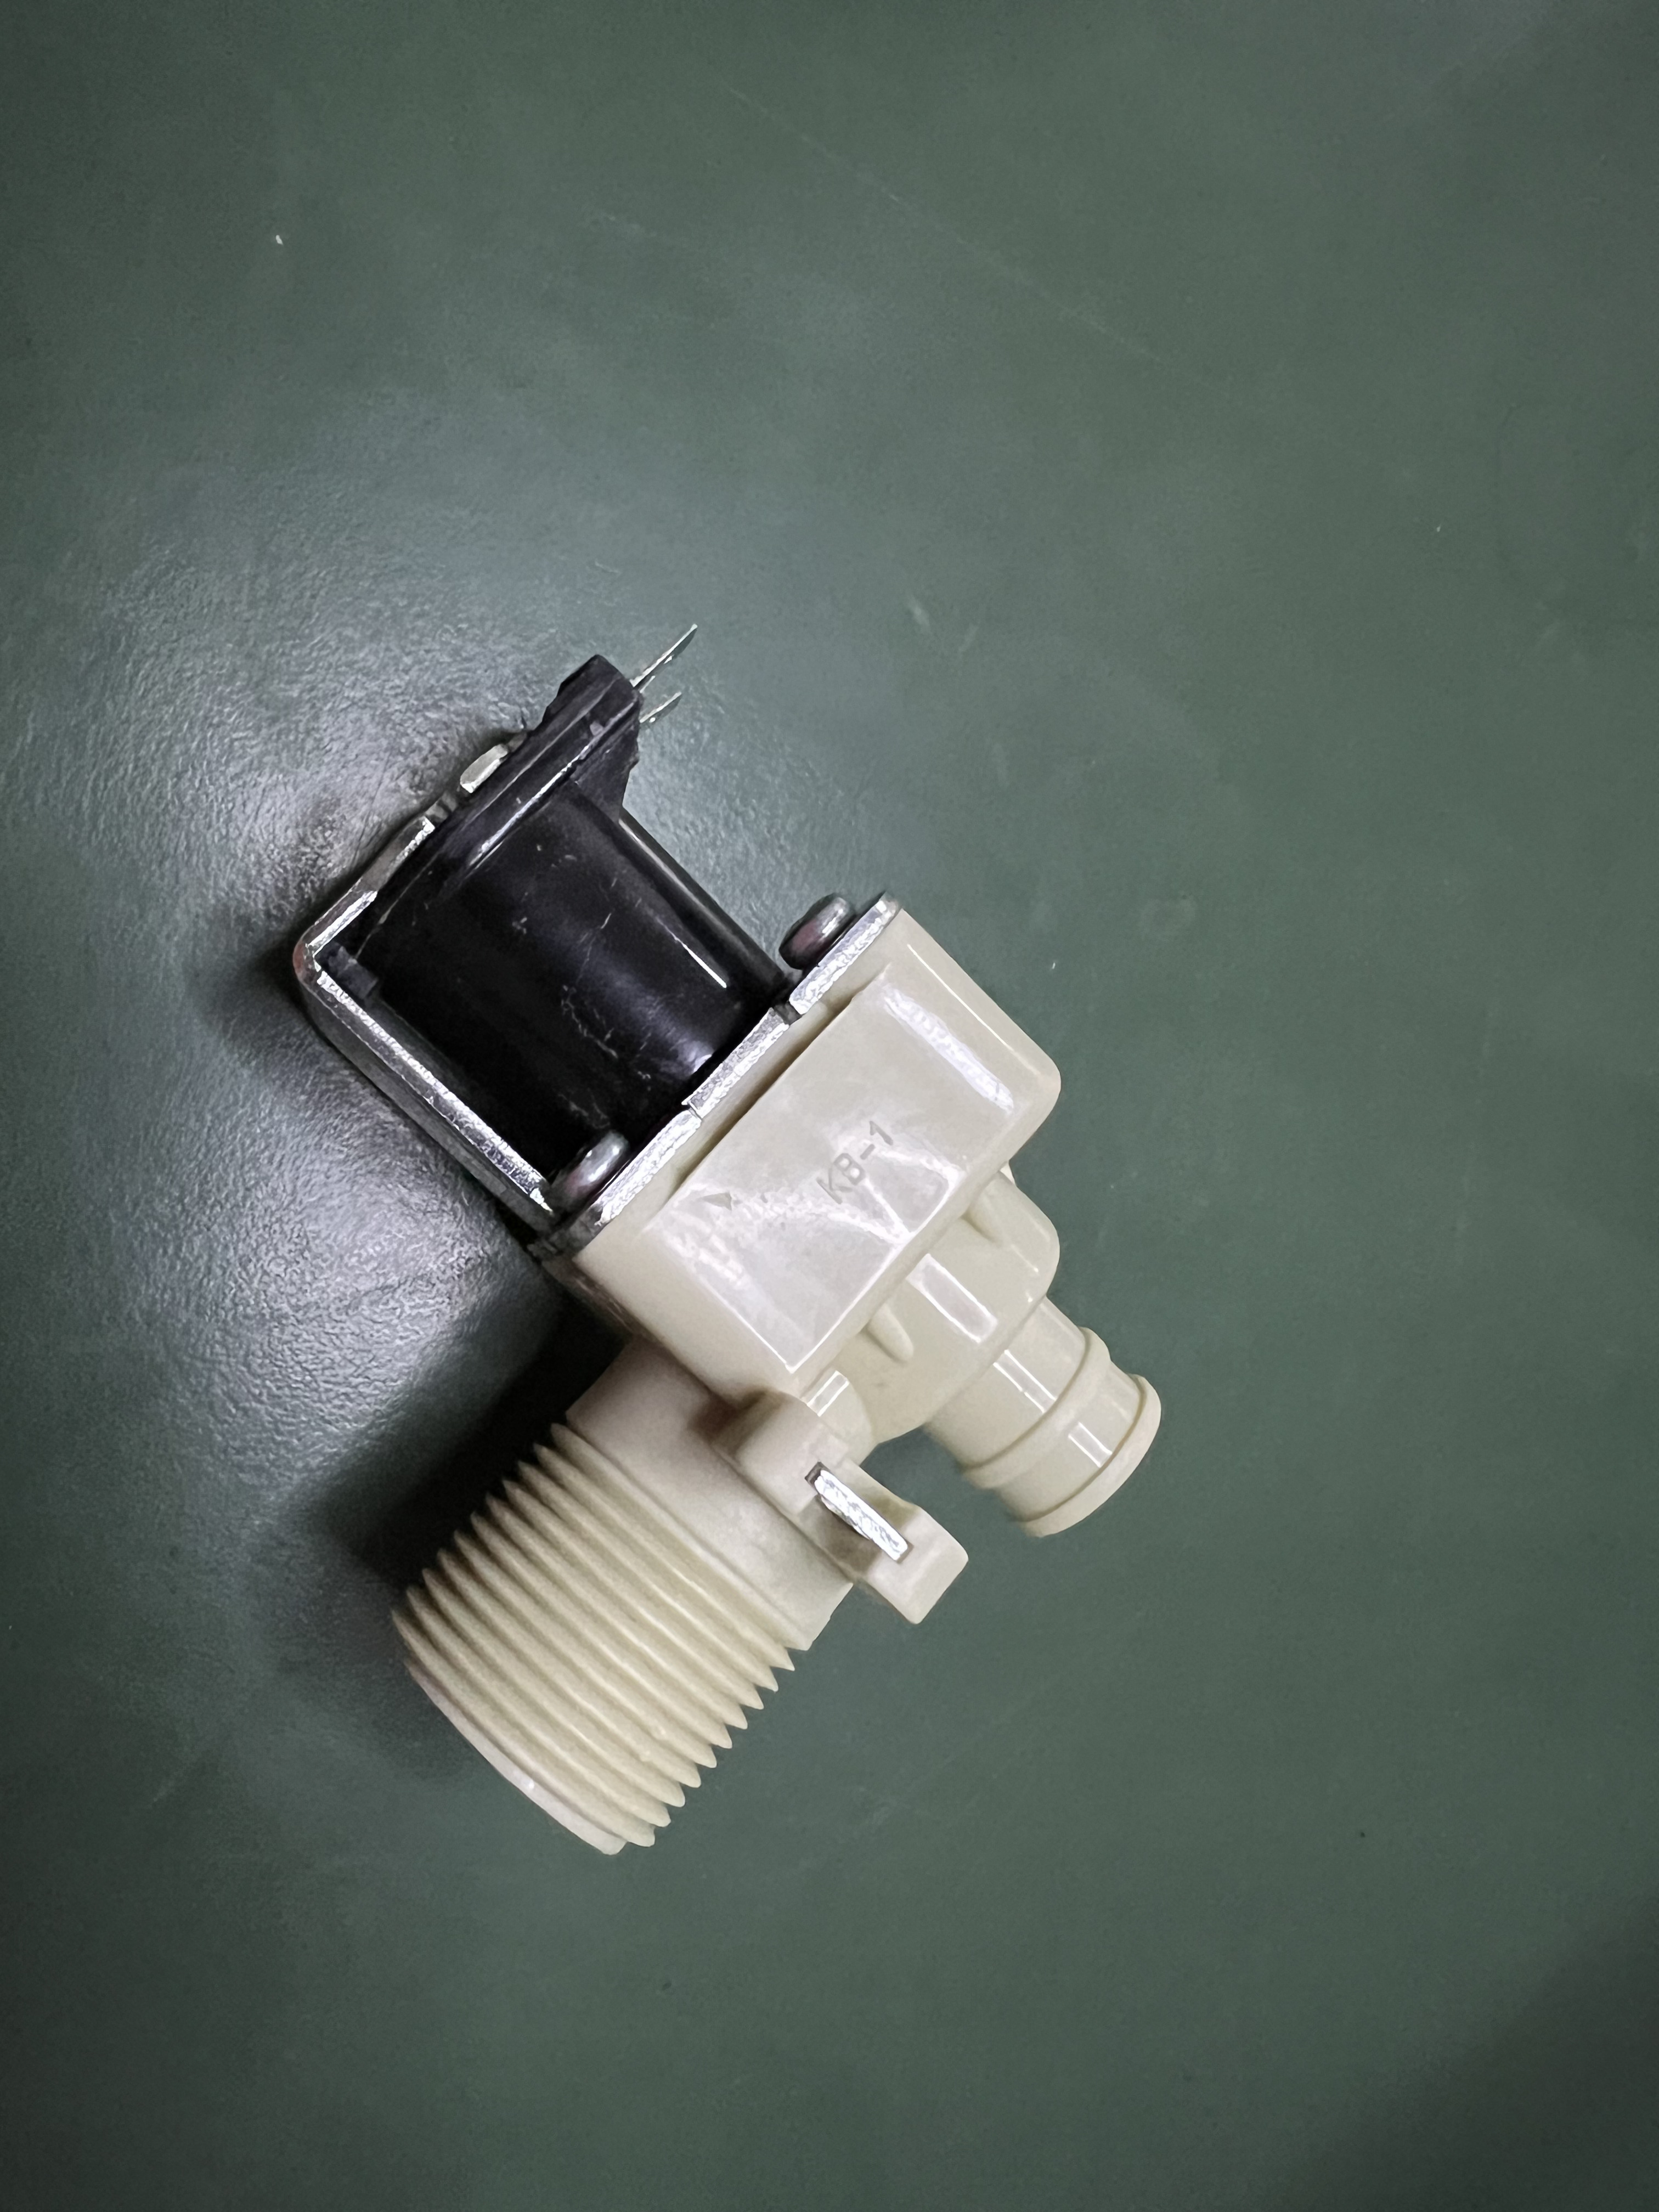godrej_inlet_valves: (240, 643, 1211, 1865)
